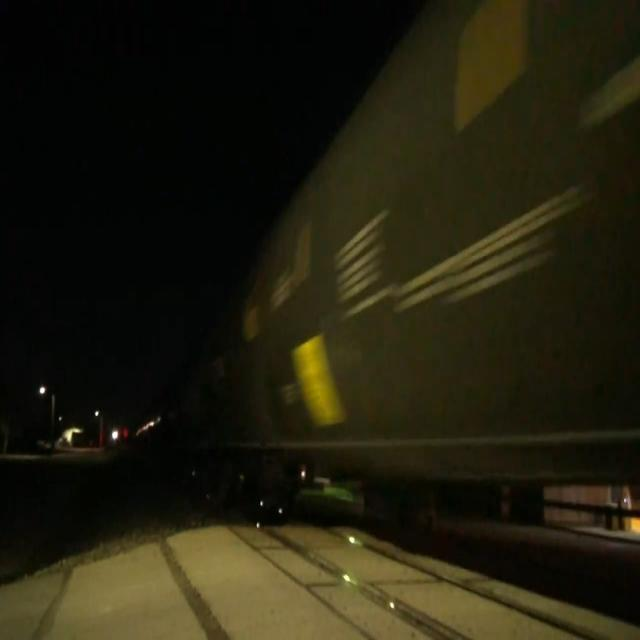tank: (187, 0, 640, 575)
